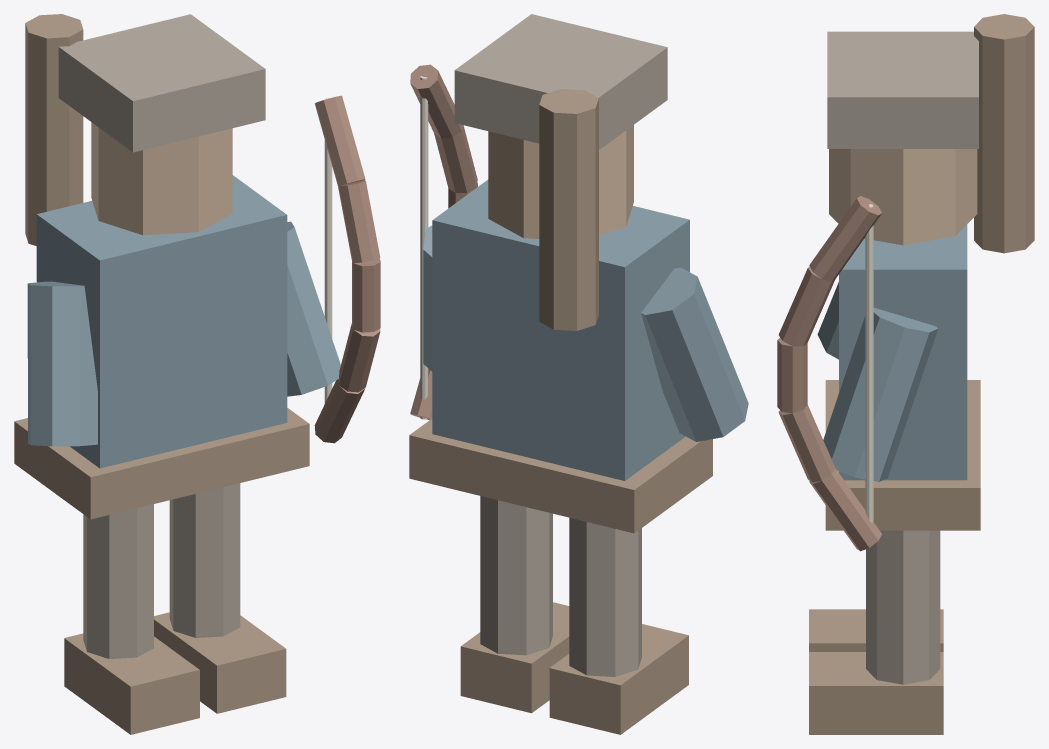
The model's file is archer.glb.
3 renders of one model, left to right at view 1: azimuth 30°, elevation 25°; view 2: azimuth 150°, elevation 25°; view 3: azimuth 270°, elevation 25°, orthographic. The views are drawn at different scales.
Bounding box in the file's own units: 1.1 × 2.1 × 0.7633.
